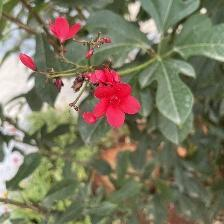jatropha: (95, 82, 147, 134)
